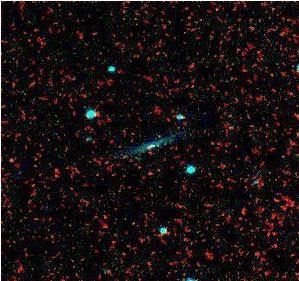star: (144, 131, 174, 161)
